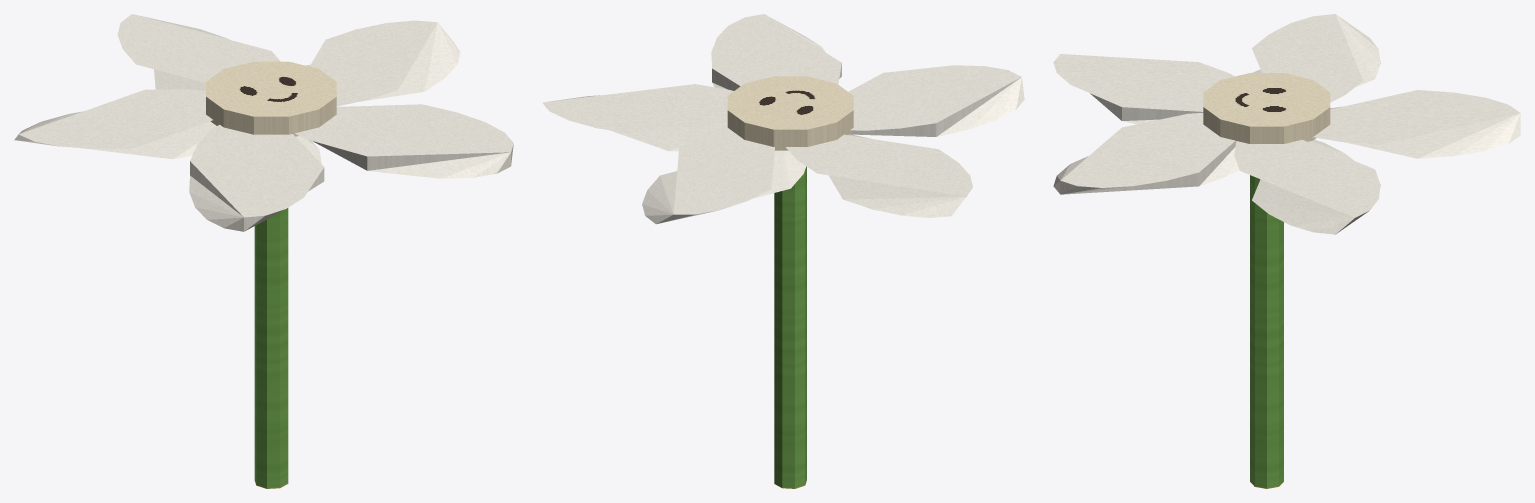
Rendered from flower_white_face.obj.
3 views of the same model, side by side, from view 1: azimuth 30°, elevation 25°; view 2: azimuth 150°, elevation 25°; view 3: azimuth 270°, elevation 25° (orthographic). The views are drawn at different scales.
Visible parts, largest first — view 1: flower_white_face; view 2: flower_white_face; view 3: flower_white_face.
Boxes of the visible parts, <box> form: flower_white_face: <box>14,14,513,488</box>; flower_white_face: <box>542,14,1024,488</box>; flower_white_face: <box>1053,14,1520,488</box>.
Size of the model in its own units: 0.6322 by 0.545 by 0.6041.
Materials: 1 (1 with a texture image).
